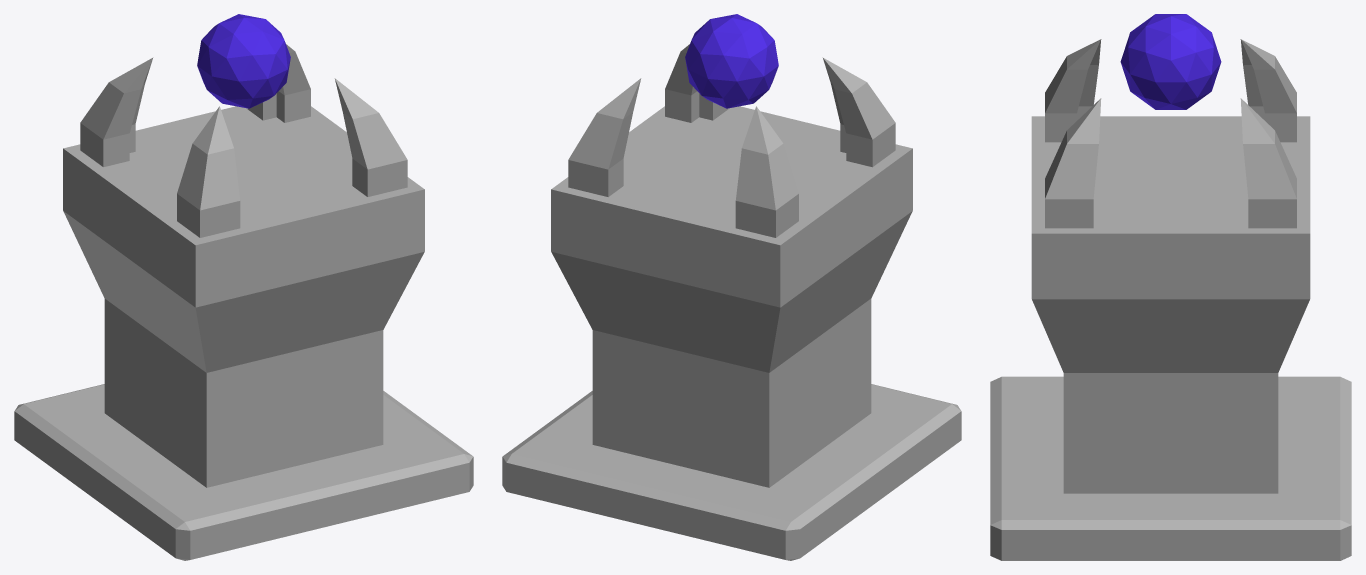
The model's file is magican.fbx.
3 renders of one model, left to right at view 1: azimuth 30°, elevation 25°; view 2: azimuth 150°, elevation 25°; view 3: azimuth 270°, elevation 25°, orthographic. The views are drawn at different scales.
Parts seen in each view (by area): view 1: Cube.054, Cube, Cube.053, Icosphere.008; view 2: Cube.054, Cube, Cube.053, Icosphere.008; view 3: Cube.054, Cube, Cube.053, Icosphere.008.
Part boxes in pixels (bbox=[...]): Cube.054: bbox=[63, 106, 424, 487]; Cube: bbox=[14, 384, 473, 560]; Cube.053: bbox=[80, 44, 407, 237]; Icosphere.008: bbox=[197, 14, 290, 108]; Cube.054: bbox=[551, 106, 912, 487]; Cube: bbox=[502, 384, 961, 560]; Cube.053: bbox=[568, 44, 895, 237]; Icosphere.008: bbox=[685, 14, 778, 108]; Cube.054: bbox=[1031, 116, 1310, 493]; Cube: bbox=[990, 376, 1351, 560]; Cube.053: bbox=[1045, 39, 1296, 228]; Icosphere.008: bbox=[1120, 14, 1221, 109].
Bounding box in the file's own units: 400 × 578 × 400.
